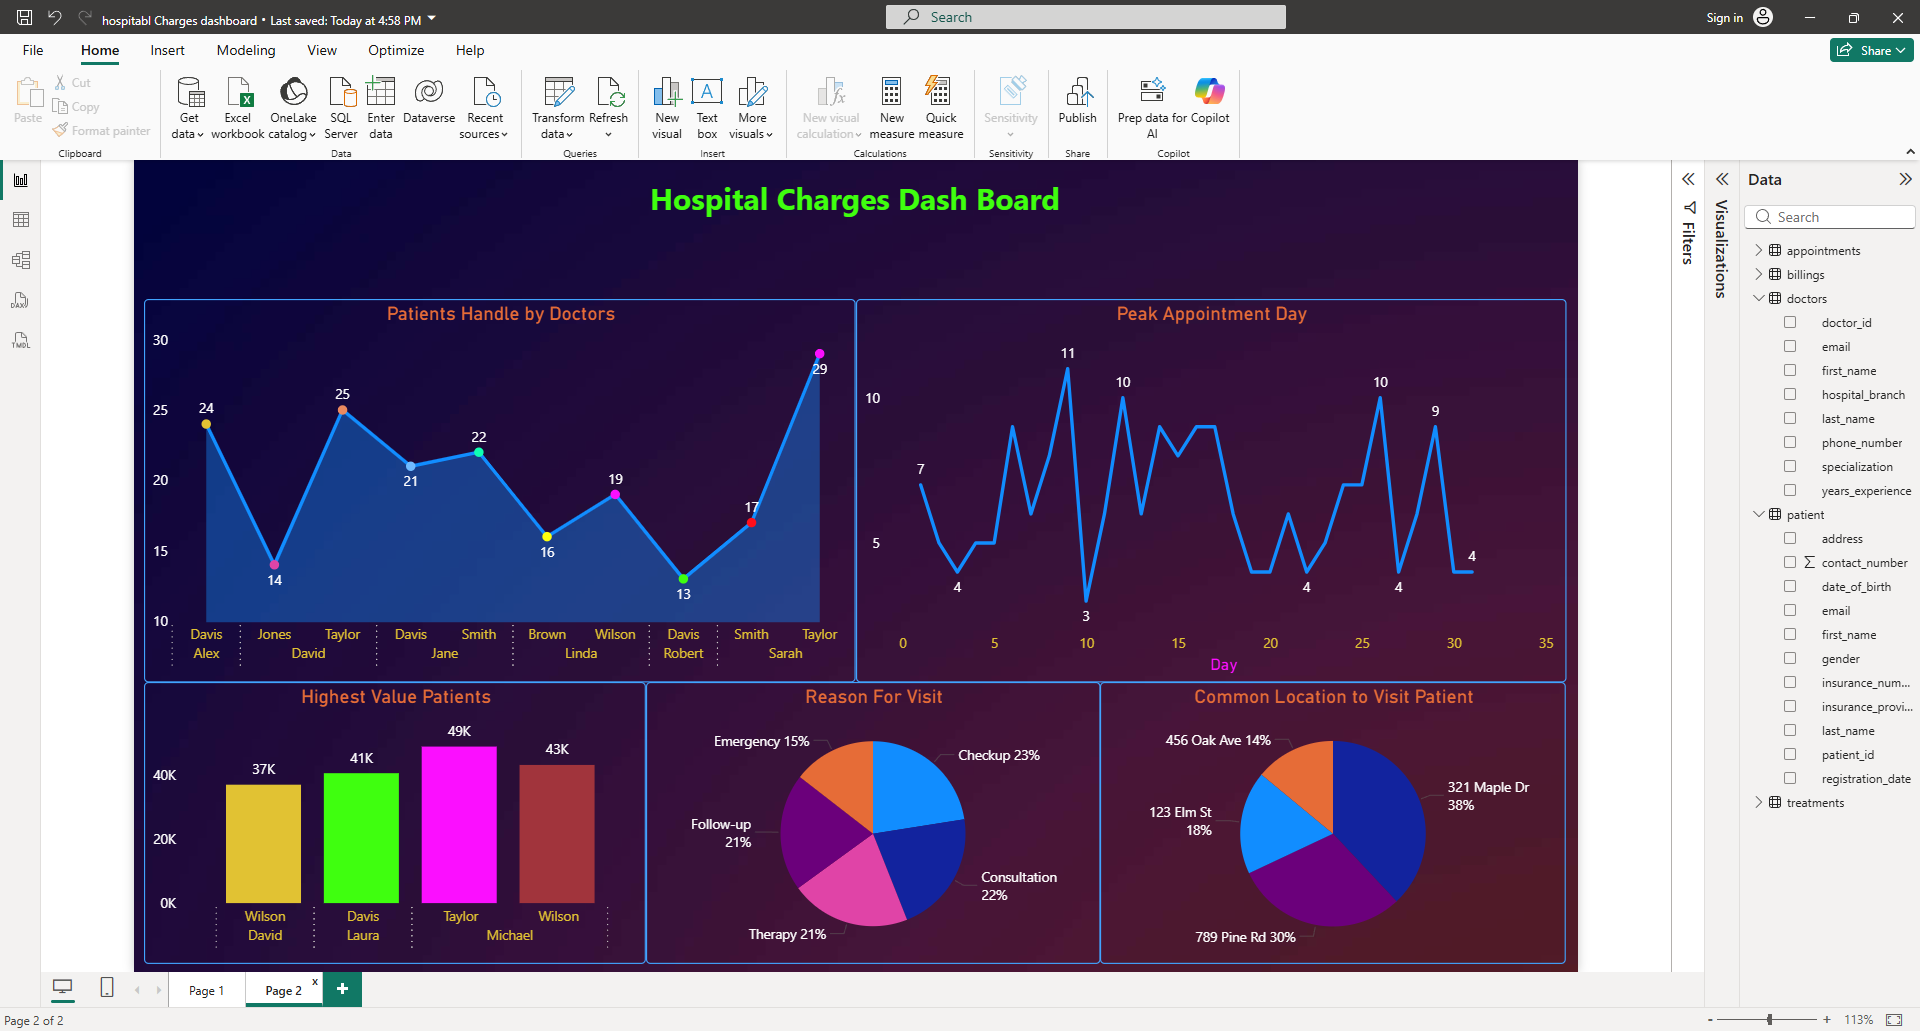

The page's visual inventory and layout, read from the dashboard file:
{"tool":"powerbi","page":{"name":"Page 2","canvas":[1280,720],"ordinal":1},"visuals":[{"type":"areaChart","title":"Patients Handle by Doctors","fields":{"Category":["doctors.first_name","doctors.last_name"],"Y":["CountNonNull(treatments.treatment_id)"]},"box":[8.9,123.3,631.3,339.6],"z":0},{"type":"columnChart","title":"Highest Value Patients","fields":{"Category":["patient.first_name","patient.last_name"],"Y":["Sum(billings.amount)"]},"box":[8.9,462.9,445.1,250],"z":1},{"type":"lineChart","title":"Peak Appointment Day","fields":{"Category":["appointments.appointment_date.Variation.Date Hierarchy.Day"],"Y":["CountNonNull(appointments.appointment_id)"]},"box":[640.2,123.3,629.6,339.6],"z":2},{"type":"pieChart","title":"Reason For Visit","fields":{"Category":["appointments.reason_for_visit"],"Y":["CountNonNull(appointments.reason_for_visit)"]},"box":[454,462.9,402.6,250],"z":3},{"type":"pieChart","title":"Common Location to Visit Patient","fields":{"Category":["patient.address"],"Y":["CountNonNull(patient.address)"]},"box":[856.6,462.9,413.2,250],"z":4},{"type":"textbox","box":[17.7,10.6,1243.2,104.6],"z":5}]}

Visuals, with their boxes on the page's 1280x720 design canvas (x1, y1, x2, y2). These are canvas units, not pixel positions in the 1920x1031 screenshot, which may show the page scaled, cropped or inside an application window:
"Patients Handle by Doctors" areaChart: (left=9, top=123, right=640, bottom=463)
"Highest Value Patients" columnChart: (left=9, top=463, right=454, bottom=713)
"Peak Appointment Day" lineChart: (left=640, top=123, right=1270, bottom=463)
"Reason For Visit" pieChart: (left=454, top=463, right=857, bottom=713)
"Common Location to Visit Patient" pieChart: (left=857, top=463, right=1270, bottom=713)
textbox: (left=18, top=11, right=1261, bottom=115)
